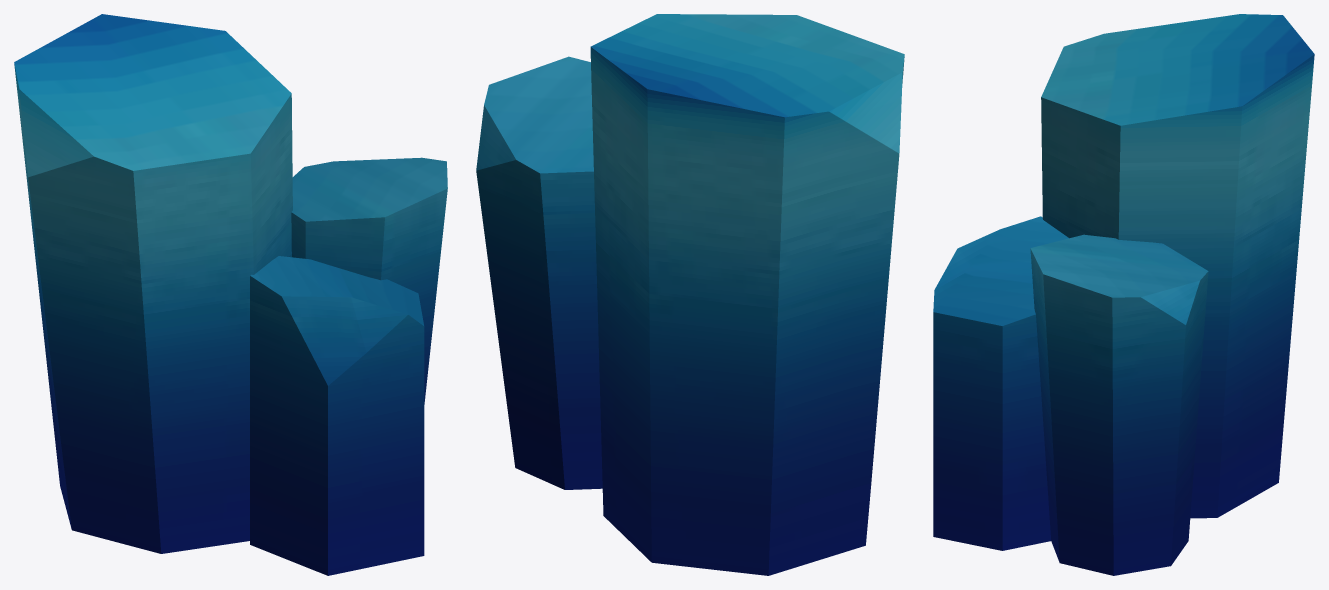
The model's file is rocaesmeralda_03.fbx.
3 renders of one model, left to right at view 1: azimuth 30°, elevation 25°; view 2: azimuth 150°, elevation 25°; view 3: azimuth 270°, elevation 25°, orthographic. The views are drawn at different scales.
Visible parts, largest first — view 1: cueva03; view 2: cueva03; view 3: cueva03.
Boxes of the visible parts, bbox=[...] form: cueva03: bbox=[14, 14, 447, 575]; cueva03: bbox=[476, 14, 904, 575]; cueva03: bbox=[933, 14, 1314, 575].
Size of the model in its own units: 497 by 526 by 431.
1 material, 1 textured.
